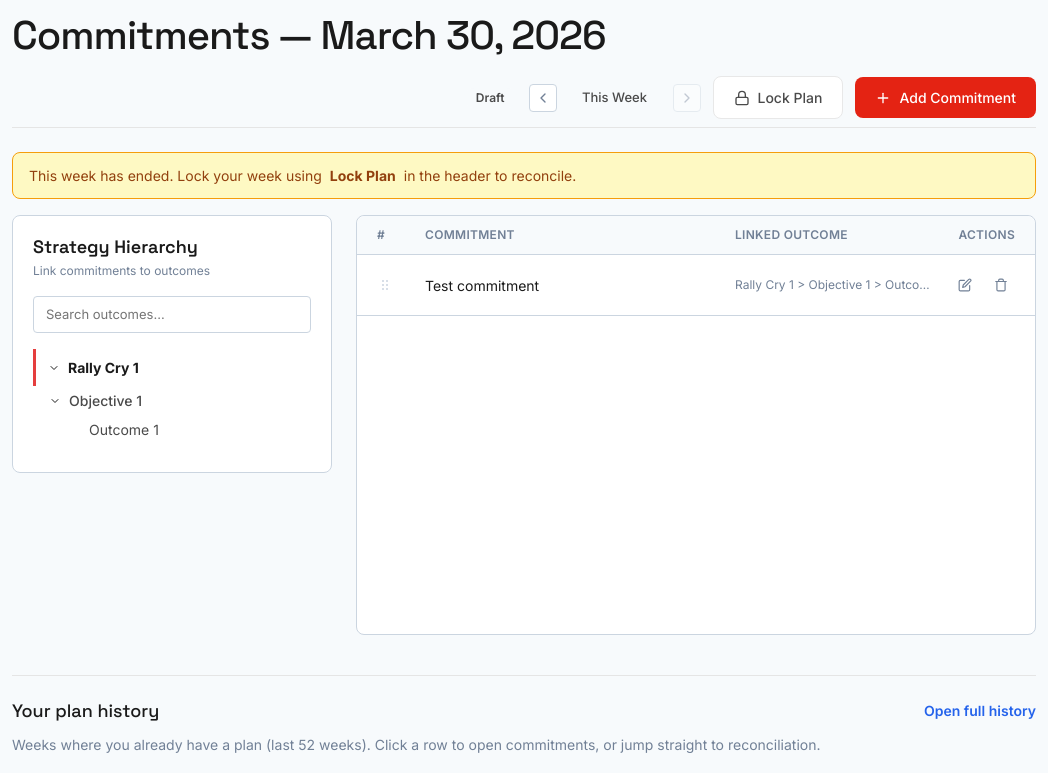
Test: WeeklyPlanningPage › shows a dismissible toast when lock fails
The image size is (1048, 773).
Click the button "Lock Plan" at (778, 98), box x1=712 y1=76 x2=843 y2=119
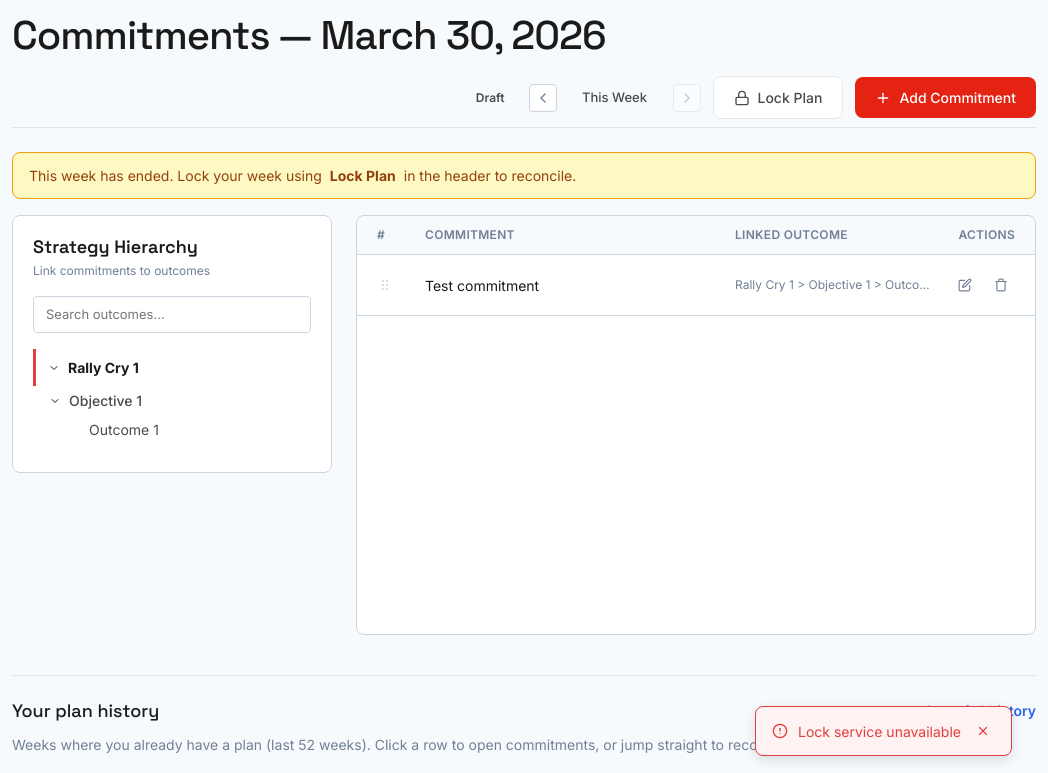
expect the text "Lock service unavailable" is shown: met, box x1=798 y1=720 x2=961 y2=742
Click the button named "Dismiss error" at (983, 731), box x1=971 y1=719 x2=995 y2=743
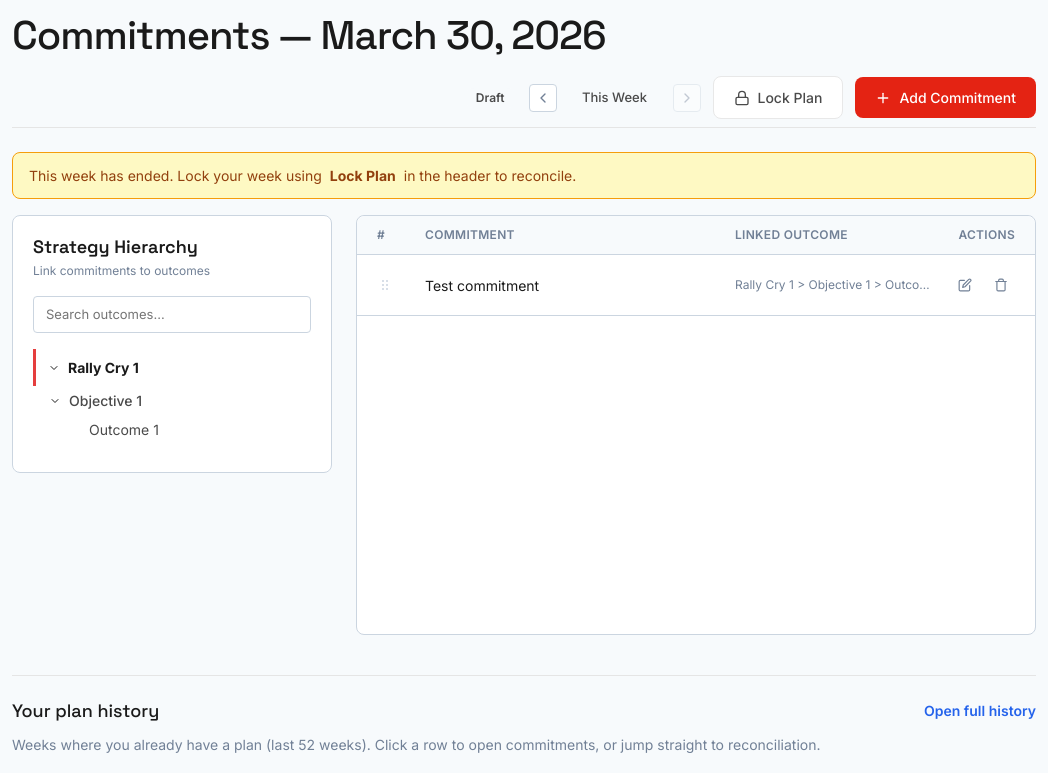
expect the message with test id "error-toast" is gone: met
